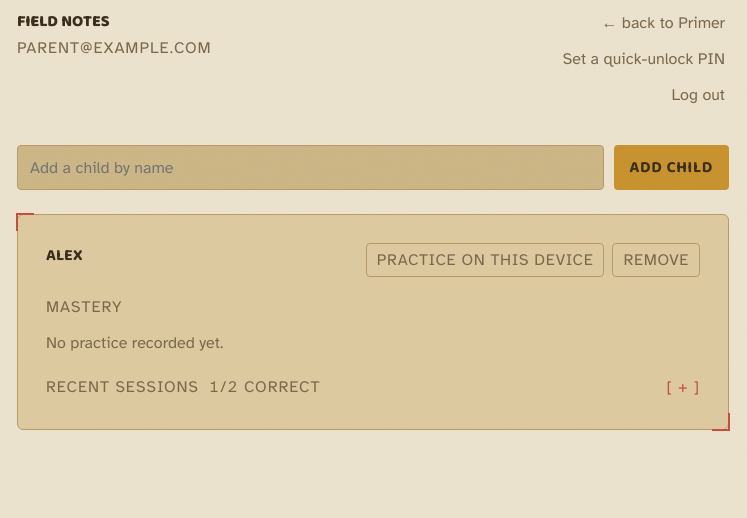
it: ParentDashboard recent-sessions disclosure › expands to show attempt rows on click, and collapses again on a second click
Click the text "Recent sessions": (123,387) [46,377,199,397]
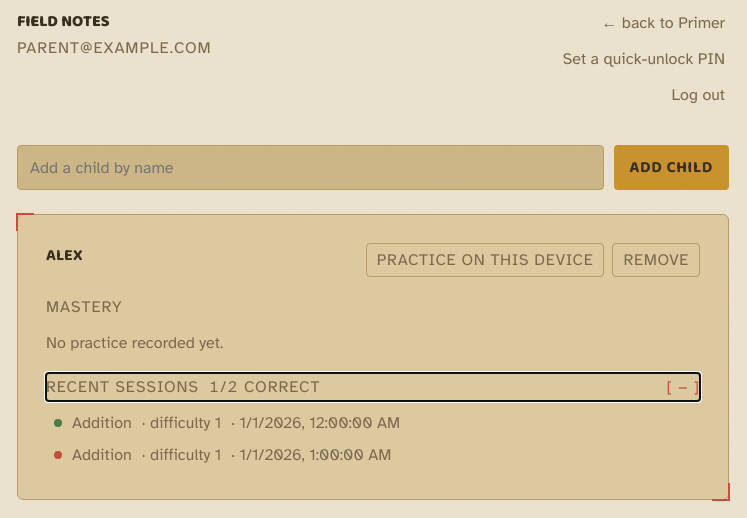
Result: the text "· difficulty 1" is shown 2 times at [142,413,221,433]; [142,445,221,465]
Click the text "Recent sessions": (123,387) [46,377,199,397]
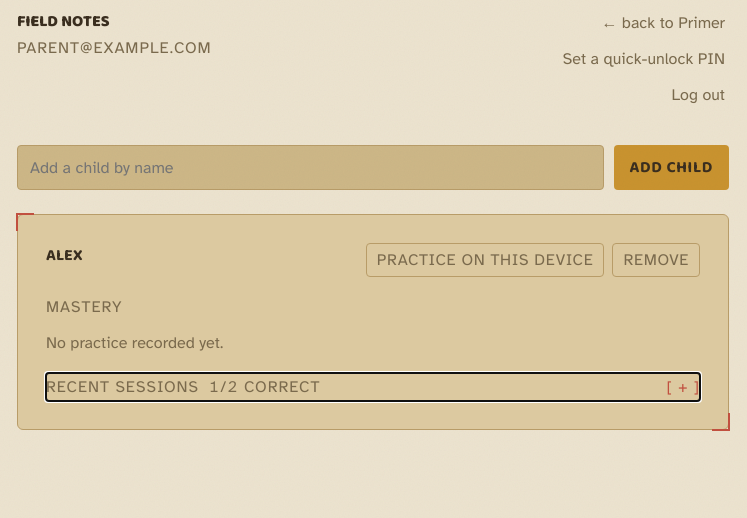
Result: the text "difficulty 1" is gone
